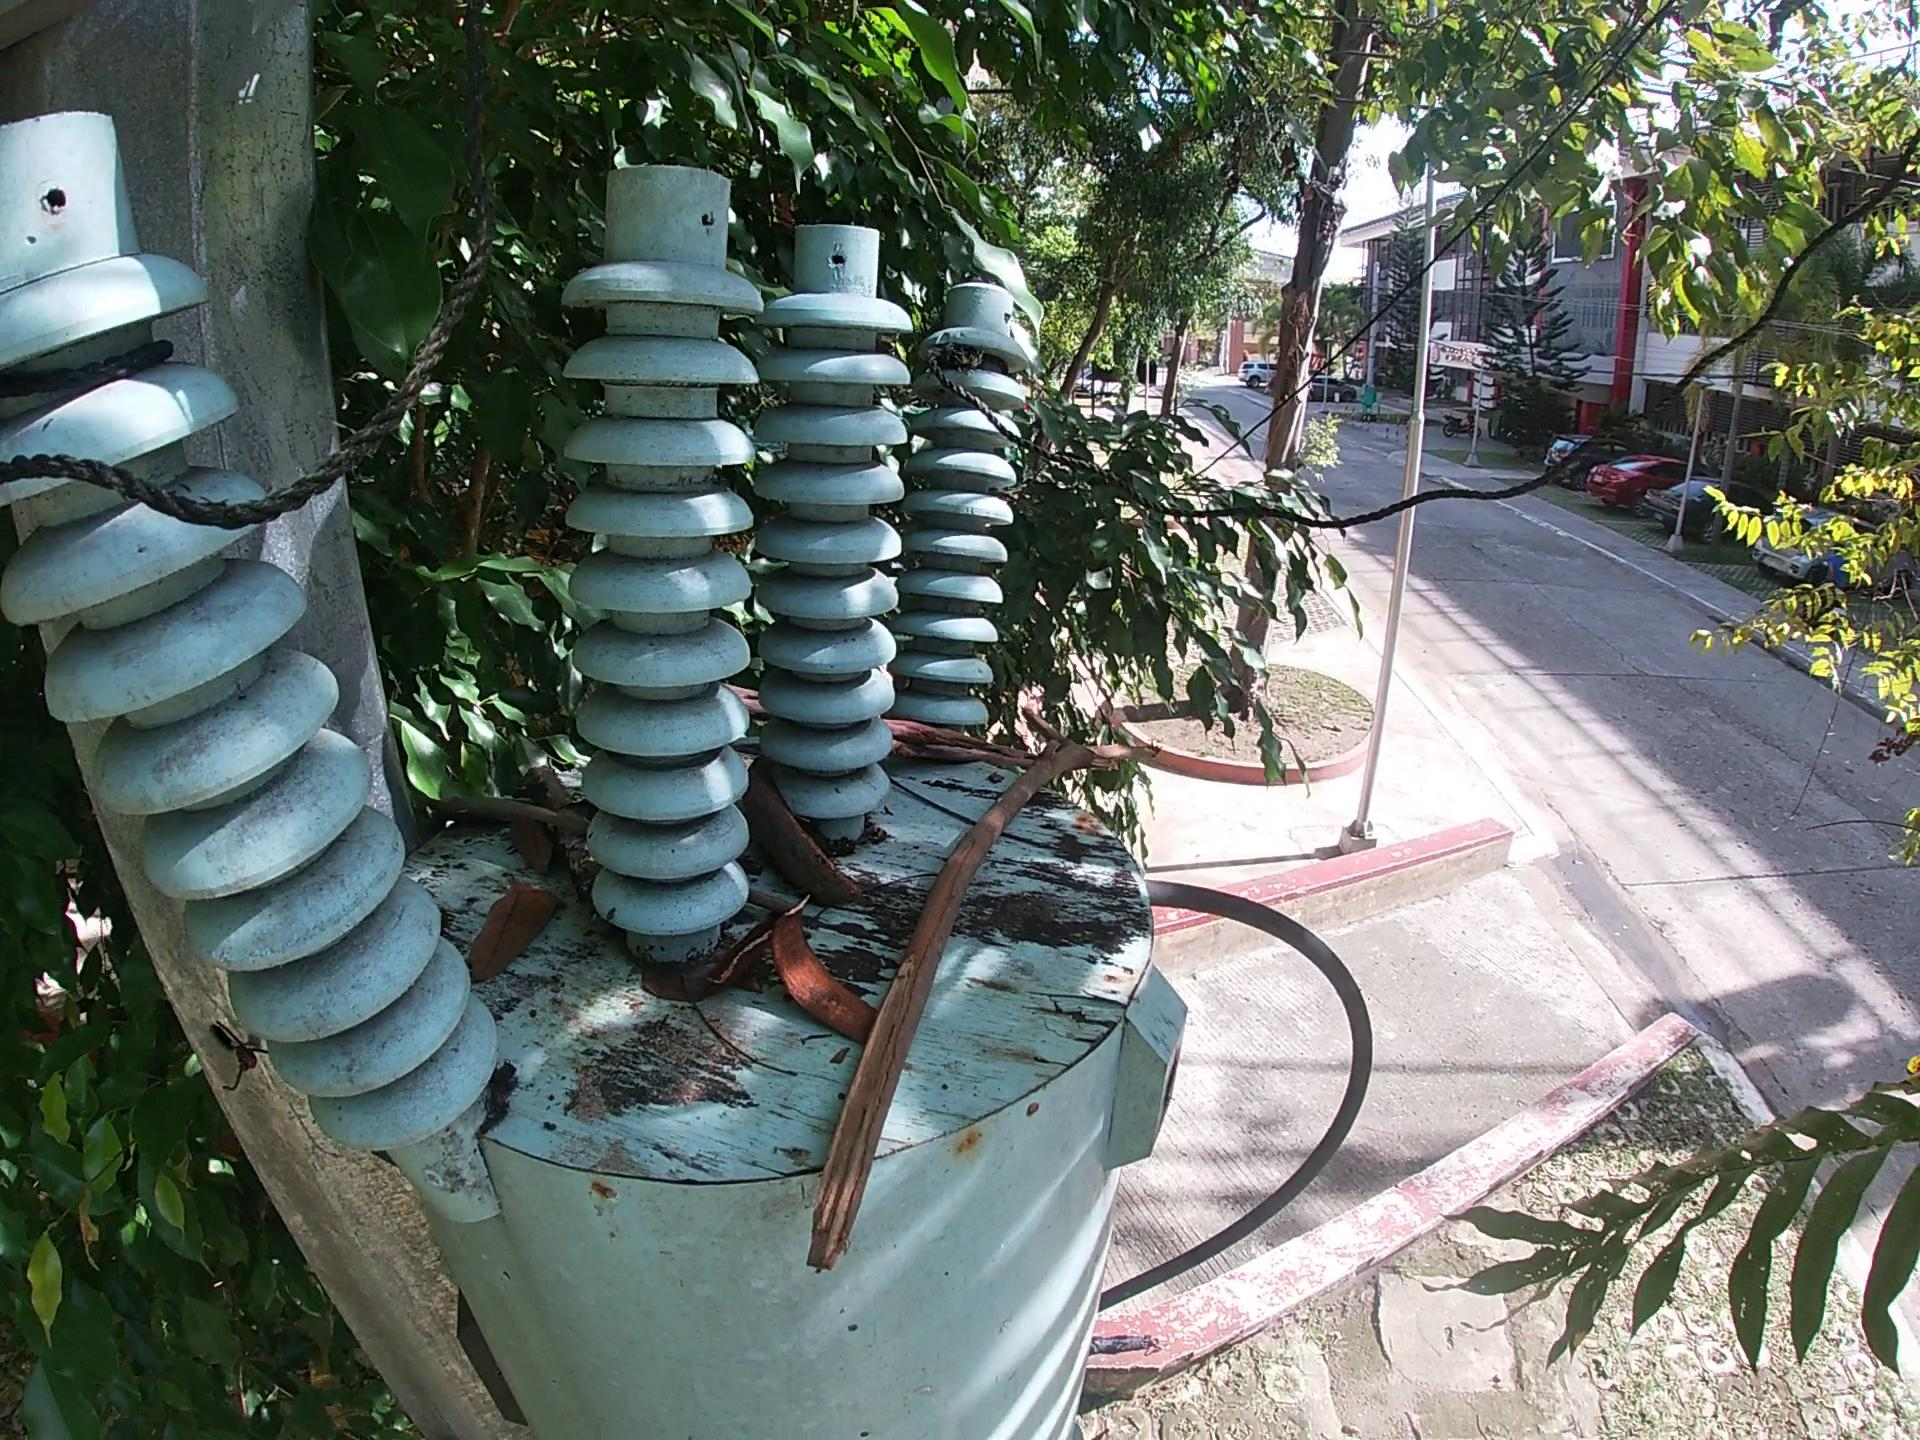leaf: (458, 877, 559, 992), (630, 956, 720, 1007), (506, 818, 559, 877)
mahogany fruit: (736, 759, 872, 908), (768, 892, 881, 1045), (701, 911, 782, 989)
tree branch: (795, 702, 1157, 1284), (724, 685, 1043, 771), (522, 759, 600, 903), (411, 796, 594, 843), (747, 886, 798, 914)
